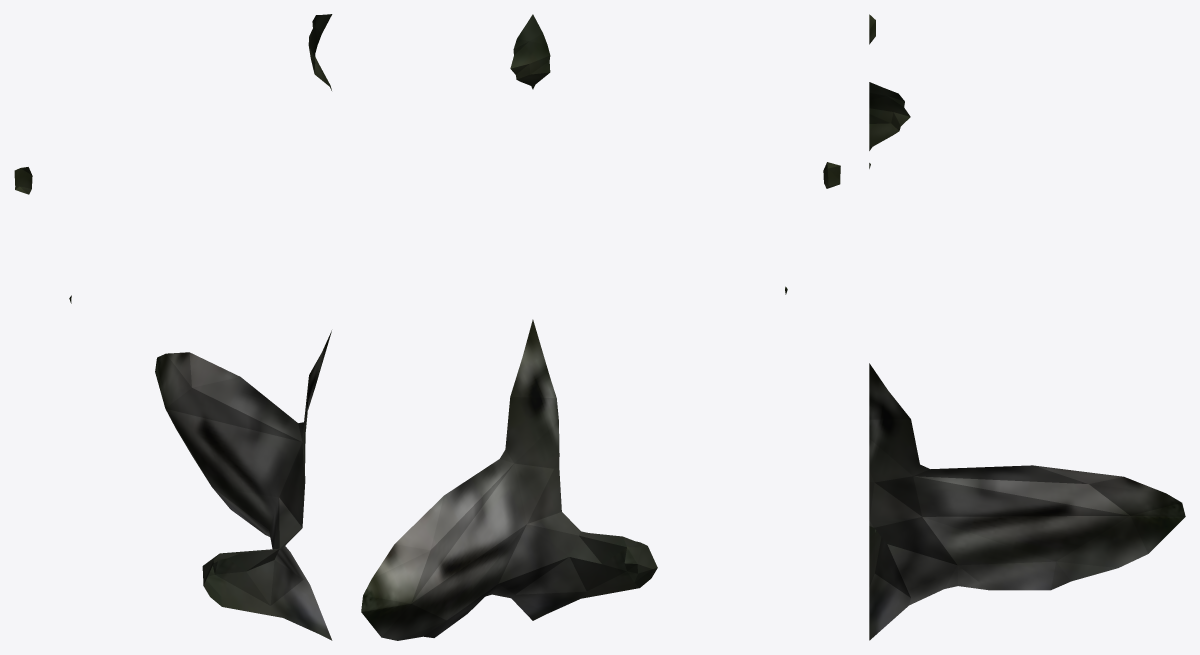
3 renders of one model, left to right at view 1: azimuth 30°, elevation 25°; view 2: azimuth 150°, elevation 25°; view 3: azimuth 270°, elevation 25°, orthographic. The views are drawn at different scales.
Size of the model in its own units: 0.713 by 1.34 by 0.6891.
Materials: 1 (1 with a texture image).
